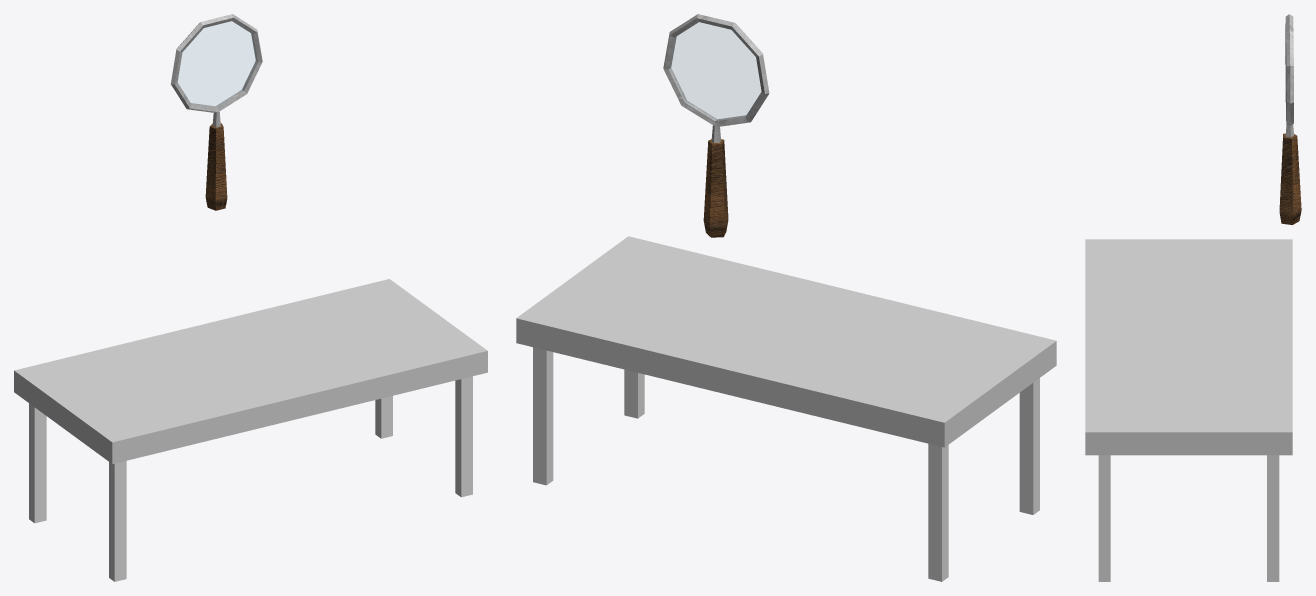
Rendered from LupaTeste.glb.
3 views of the same model, side by side, from view 1: azimuth 30°, elevation 25°; view 2: azimuth 150°, elevation 25°; view 3: azimuth 270°, elevation 25° (orthographic). The views are drawn at different scales.
Visible parts, largest first — view 1: Cube, Torus; view 2: Cube, Torus; view 3: Cube, Torus.
Part boxes in pixels (<box>): Cube: <box>14,279,487,581</box>; Torus: <box>171,14,262,210</box>; Cube: <box>516,236,1056,581</box>; Torus: <box>663,14,769,237</box>; Cube: <box>1085,239,1292,581</box>; Torus: <box>1279,14,1301,224</box>.
Bounding box in the file's own units: 4.41 × 5.06 × 2.09.
Materials: 3 (1 with a texture image).
